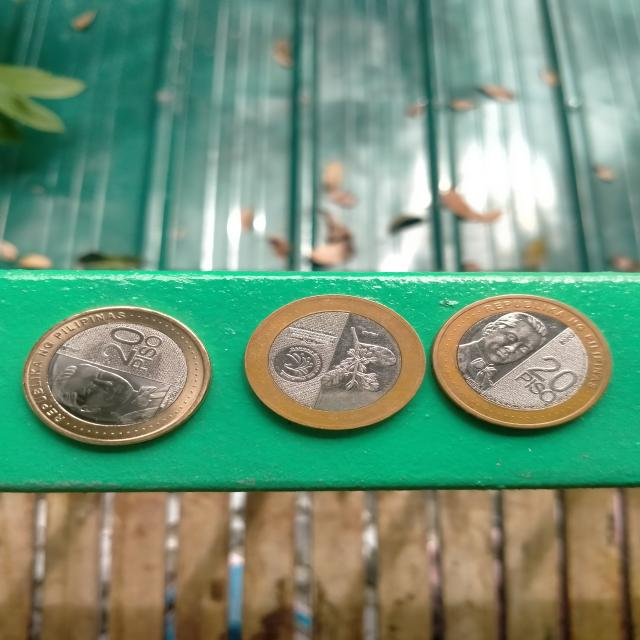20_New_Back: (317, 318, 401, 408)
20_New_Front: (507, 353, 587, 410), (94, 319, 162, 374)
